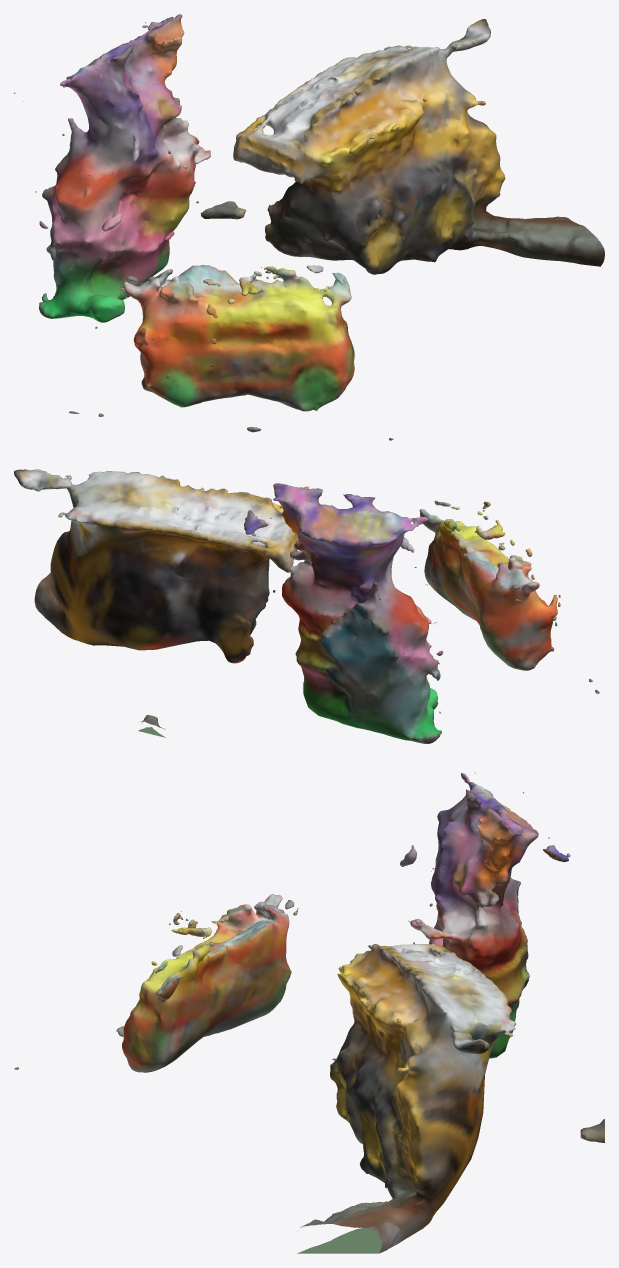
The model's file is toys.glb.
3 views of the same model, one above another, from view 1: azimuth 30°, elevation 25°; view 2: azimuth 150°, elevation 25°; view 3: azimuth 270°, elevation 25° (orthographic). The views are drawn at different scales.
Parts seen in each view (by area): view 1: 3DModel; view 2: 3DModel; view 3: 3DModel.
Boxes of the visible parts, bbox=[...] form: 3DModel: bbox=[14, 14, 604, 440]; 3DModel: bbox=[14, 469, 599, 743]; 3DModel: bbox=[14, 773, 604, 1253].
Size of the model in its own units: 3.58 by 1.56 by 3.14.
Materials: 1 (1 with a texture image).
